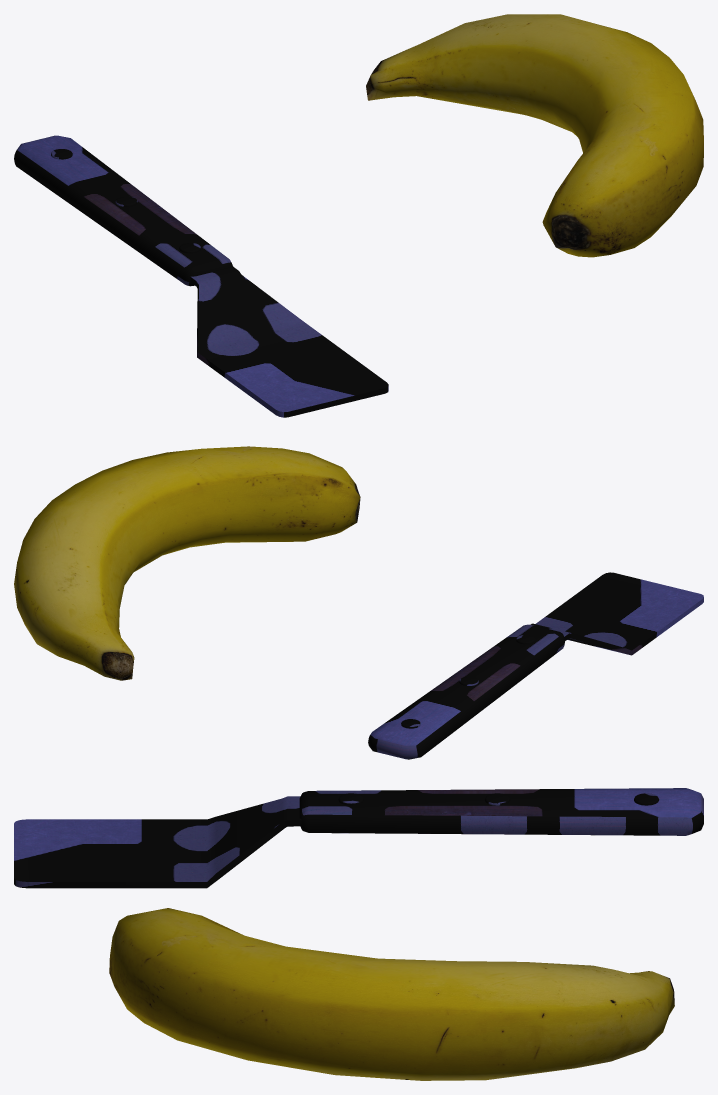
The model's file is banana.glb.
The picture shows the model from 3 angles, top to bottom: view 1: azimuth 30°, elevation 25°; view 2: azimuth 150°, elevation 25°; view 3: azimuth 270°, elevation 25°; orthographic projection. The views are drawn at different scales.
Visible parts, largest first — view 1: Banana, Cube_Cube_002; view 2: Banana, Cube_Cube_002; view 3: Banana, Cube_Cube_002.
Part boxes in pixels (x1,y1,x2,y2): Banana: [366, 14, 703, 257]; Cube_Cube_002: [14, 135, 388, 417]; Banana: [14, 446, 360, 680]; Cube_Cube_002: [368, 572, 703, 759]; Banana: [109, 908, 674, 1080]; Cube_Cube_002: [14, 788, 703, 888].
Bounding box in the file's own units: 0.1951 × 0.0414 × 0.1814.
Materials: 2 (2 with a texture image).
